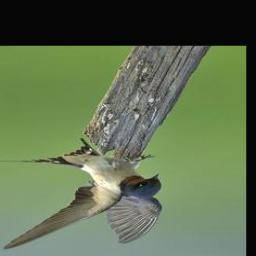Swallow: (0, 139, 163, 253)
